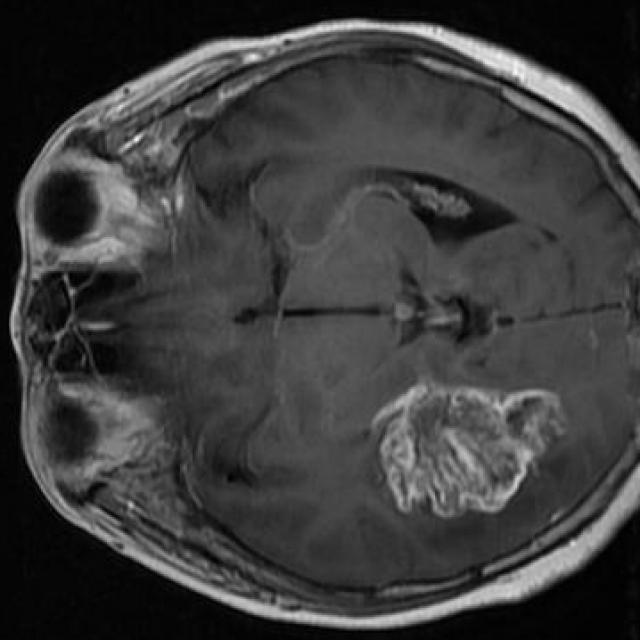glioma: (371, 385, 567, 515)
